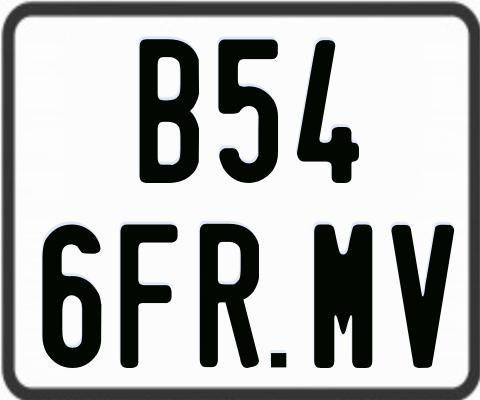4: (296, 38, 360, 184)
5: (217, 38, 277, 188)
6: (41, 224, 105, 373)
B: (137, 39, 198, 185)
F: (119, 224, 179, 371)
M: (311, 223, 375, 371)
R: (200, 221, 265, 365)
V: (388, 225, 453, 372)
